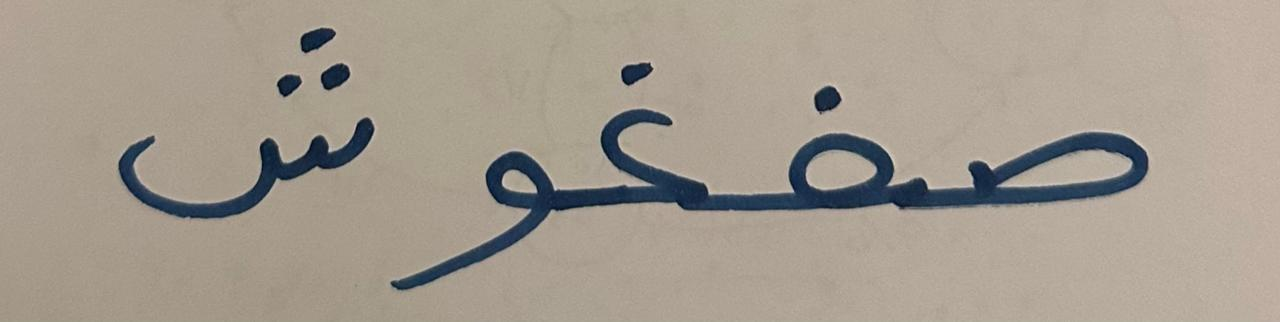feh: (729, 14, 930, 279)
ghain: (565, 16, 726, 274)
seen: (933, 16, 1190, 284)
tah: (92, 0, 380, 271)
yeh: (384, 53, 560, 310)
